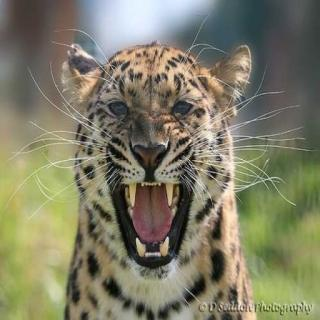Leopard: (21, 17, 320, 320)
